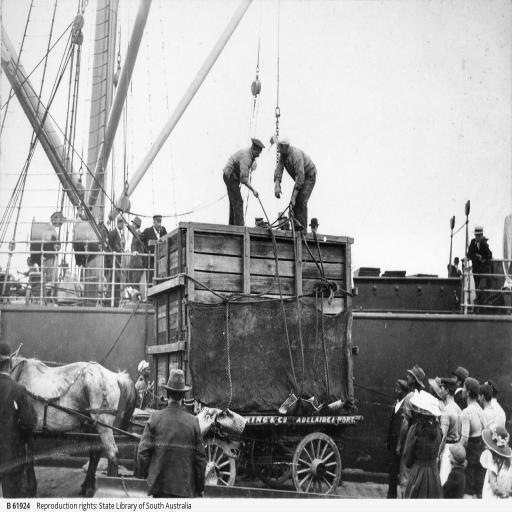horse: (12, 344, 140, 500)
